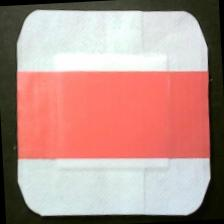Dressing: (5, 1, 217, 224)
Red_T: (7, 61, 218, 170)
